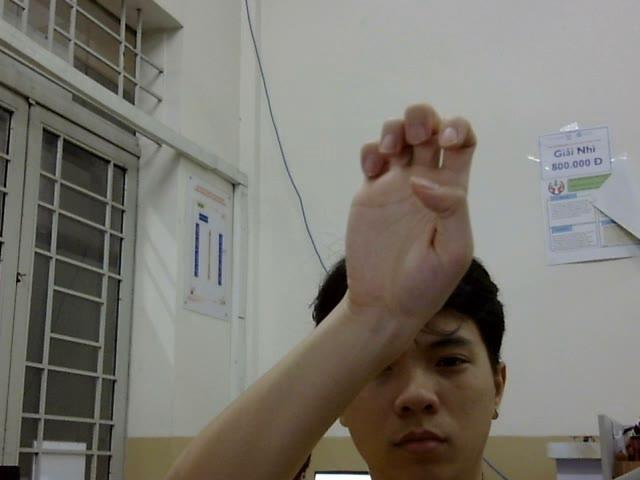E: (342, 103, 475, 297)
